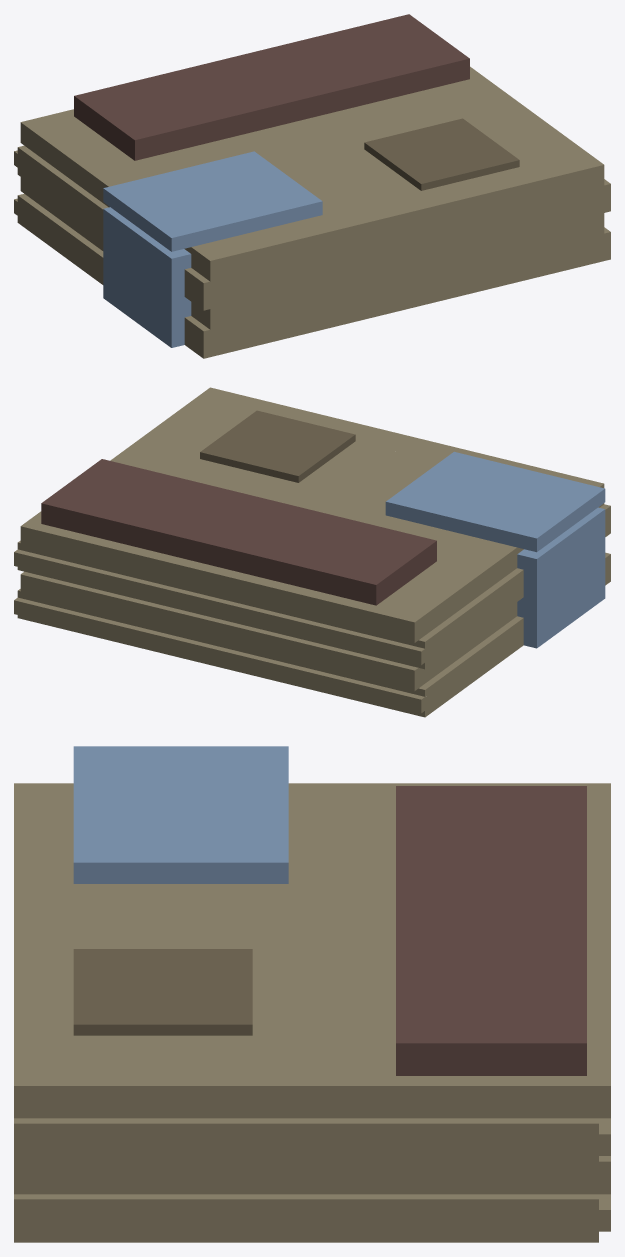
The model's file is tattered_garment.glb.
The picture shows the model from 3 angles, top to bottom: view 1: azimuth 30°, elevation 25°; view 2: azimuth 150°, elevation 25°; view 3: azimuth 270°, elevation 25°; orthographic projection. The views are drawn at different scales.
Parts seen in each view (by area): view 1: tattered_garment:compound; view 2: tattered_garment:compound; view 3: tattered_garment:compound.
Part boxes in pixels (left/top/right/bottom): tattered_garment:compound: left=14, top=14, right=610, bottom=358; tattered_garment:compound: left=14, top=387, right=610, bottom=717; tattered_garment:compound: left=14, top=746, right=610, bottom=1242.
Bounding box in the file's own units: 0.256 × 0.068 × 0.2.
